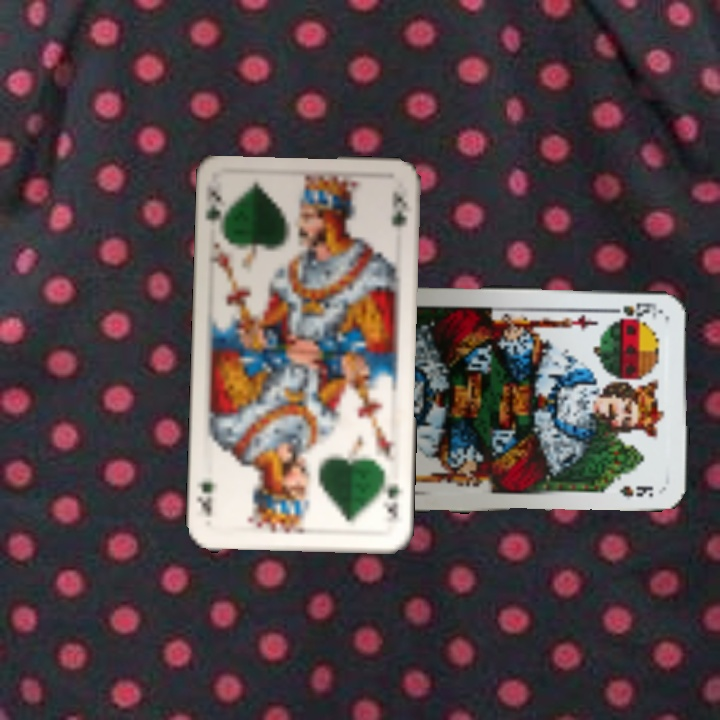GK: (202, 187, 229, 236), (379, 472, 403, 525)
SK: (603, 298, 662, 317)
